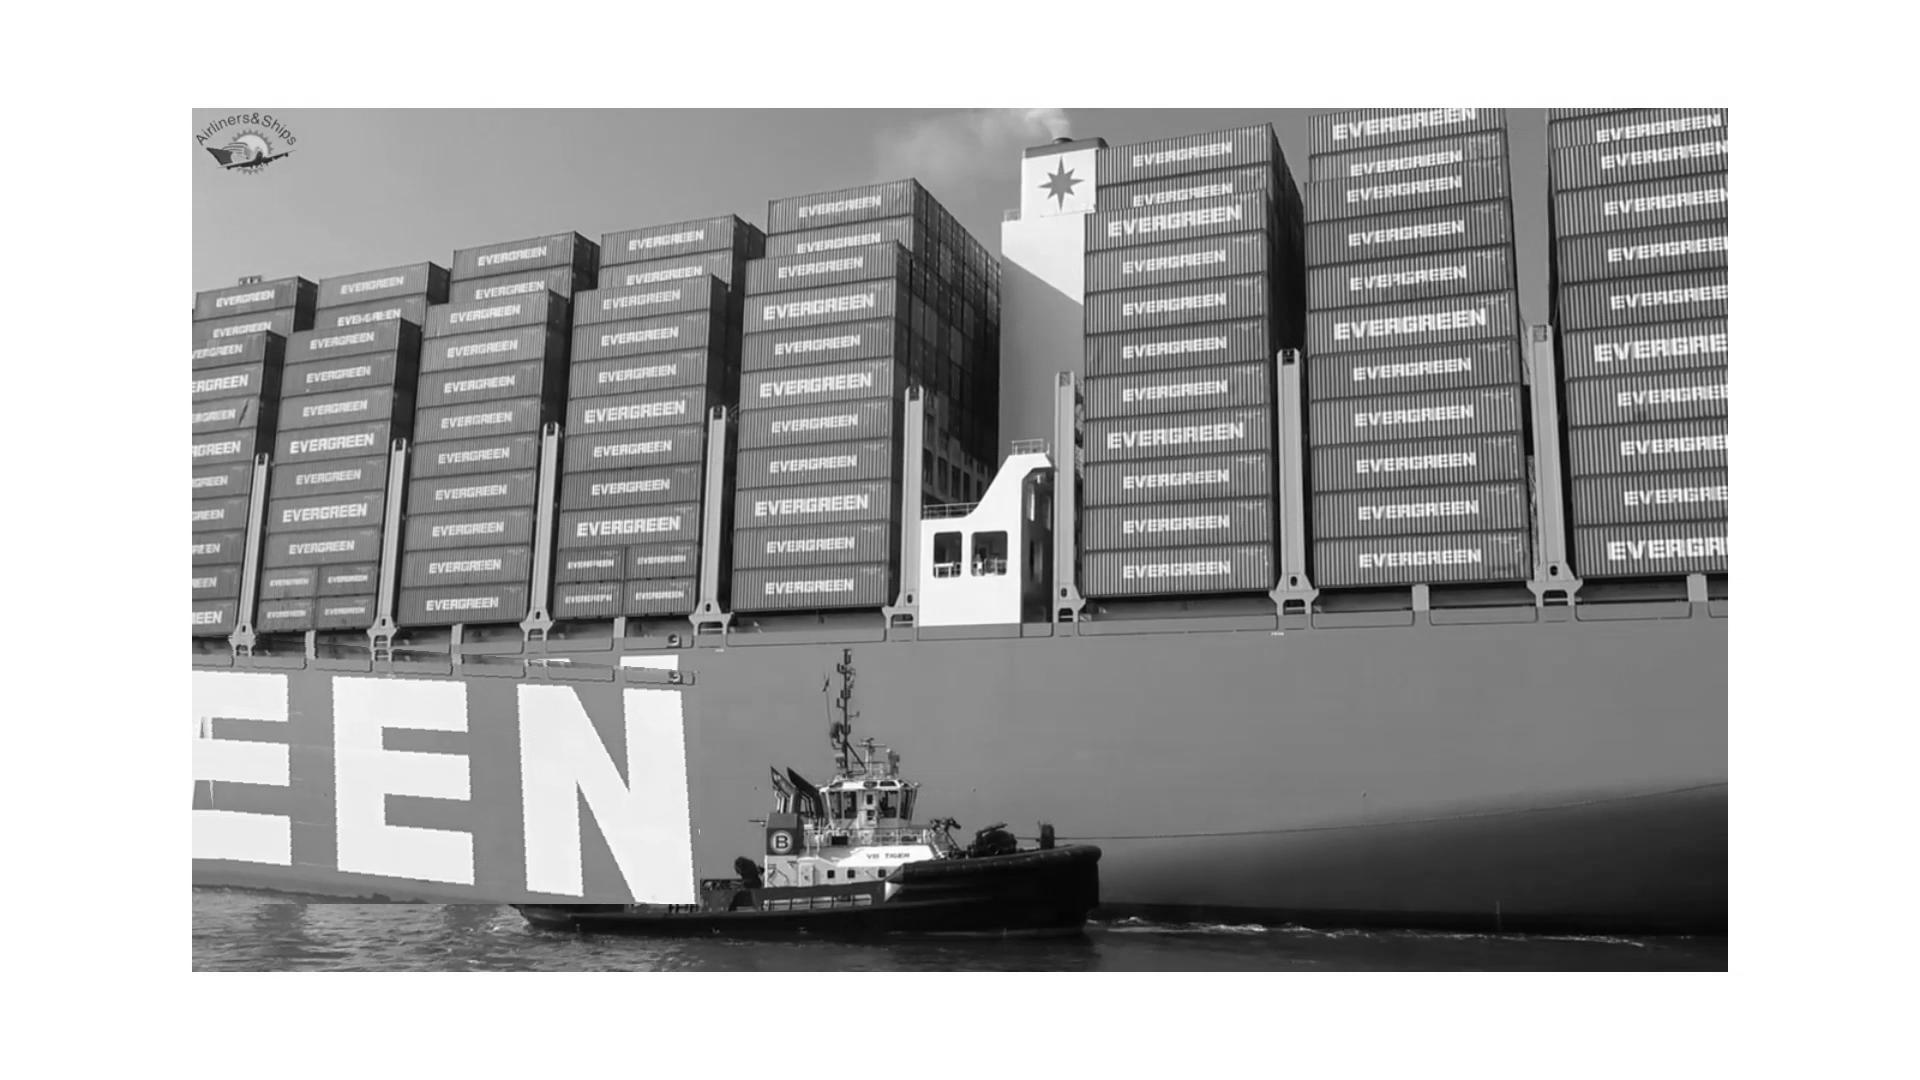OCR: (191, 634, 700, 903)
